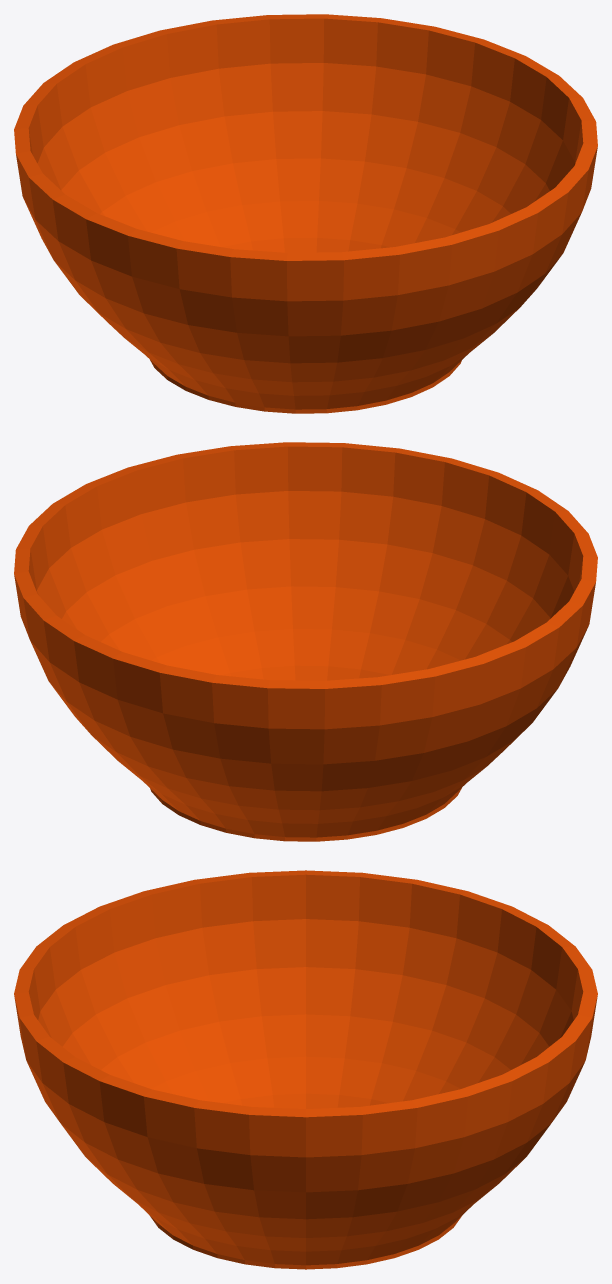
File: bowl.fbx
3 renders of one model, top to bottom at view 1: azimuth 30°, elevation 25°; view 2: azimuth 150°, elevation 25°; view 3: azimuth 270°, elevation 25°, orthographic.
Visible parts, largest first — view 1: bowl; view 2: bowl; view 3: bowl.
Part boxes in pixels (x1,y1,x2,y2): bowl: (14, 14, 597, 413); bowl: (14, 442, 597, 841); bowl: (14, 870, 597, 1269).
Bounding box in the file's own units: 2.75 × 1.09 × 2.75.
